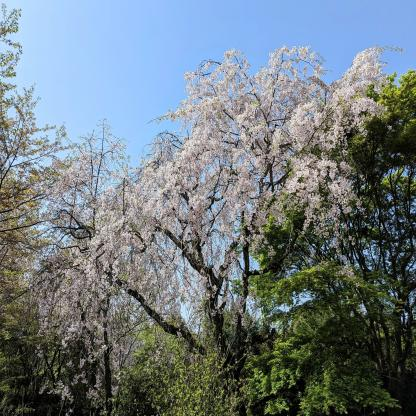ShidareZakura: (29, 44, 404, 416)
